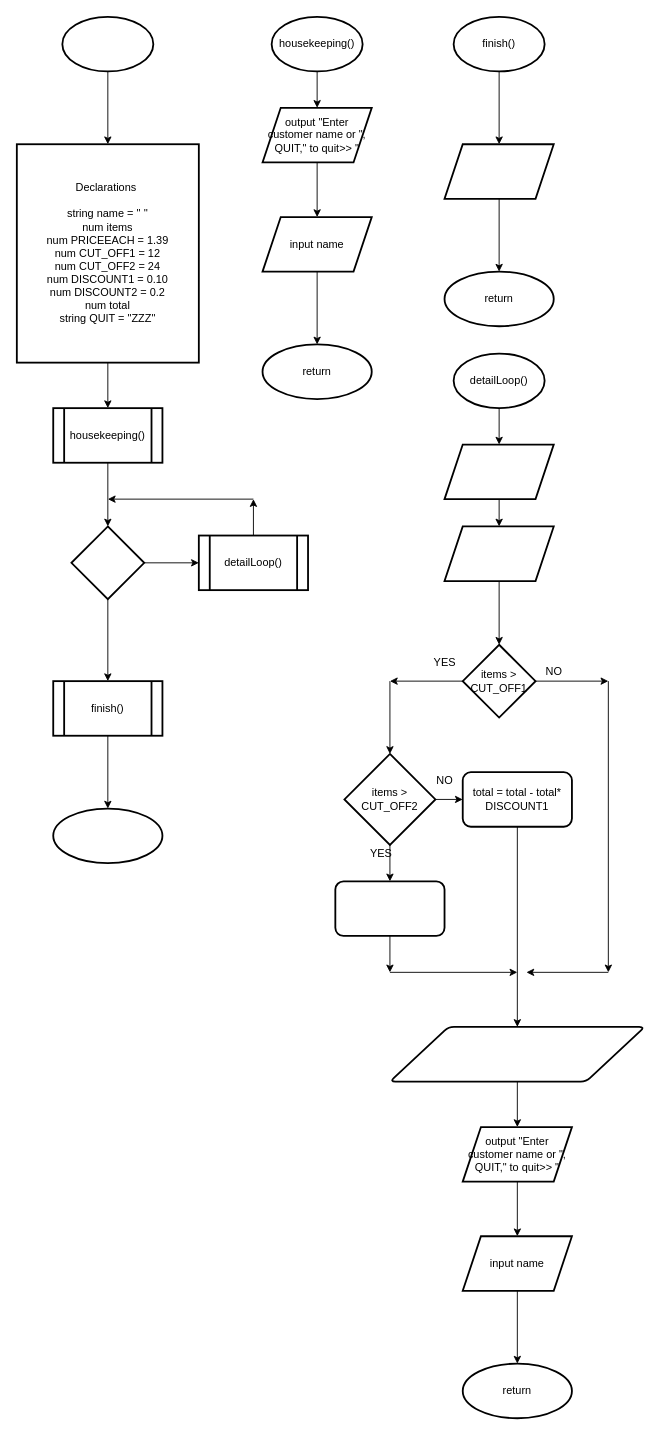
The diagram is 661 pixels wide and 1434 high, and some of its shapes have lost their labels. The shapes that lost their labels are listed below. From the top down, each one's box as (x1, y1, x2, y2) in pixels, then its label:
(61, 15, 154, 72): start
(443, 143, 554, 199): output "Program finished"
(443, 443, 554, 500): output "Enter number of items
(70, 525, 145, 600): name <> QUIT
(443, 525, 554, 581): input items
(52, 807, 163, 864): stop
(334, 880, 445, 936): total = total - total* DISCOUNT2
(389, 1026, 645, 1082): output "Total for ", name, "is $", total
